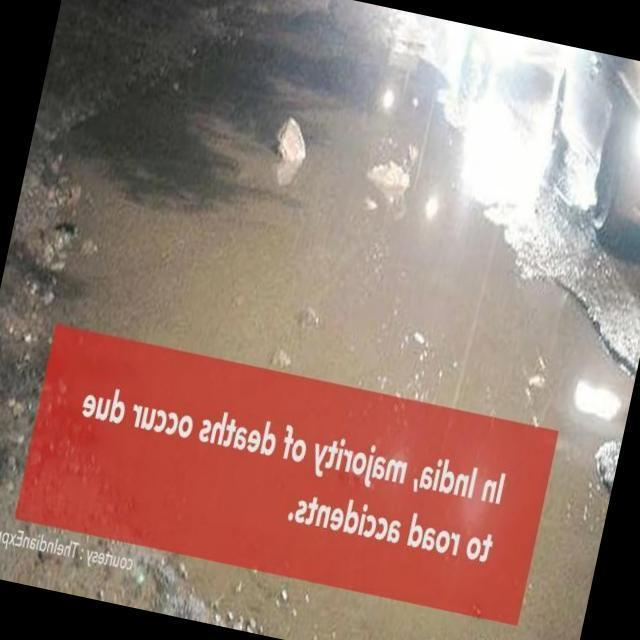Pothole: (62, 31, 617, 431)
